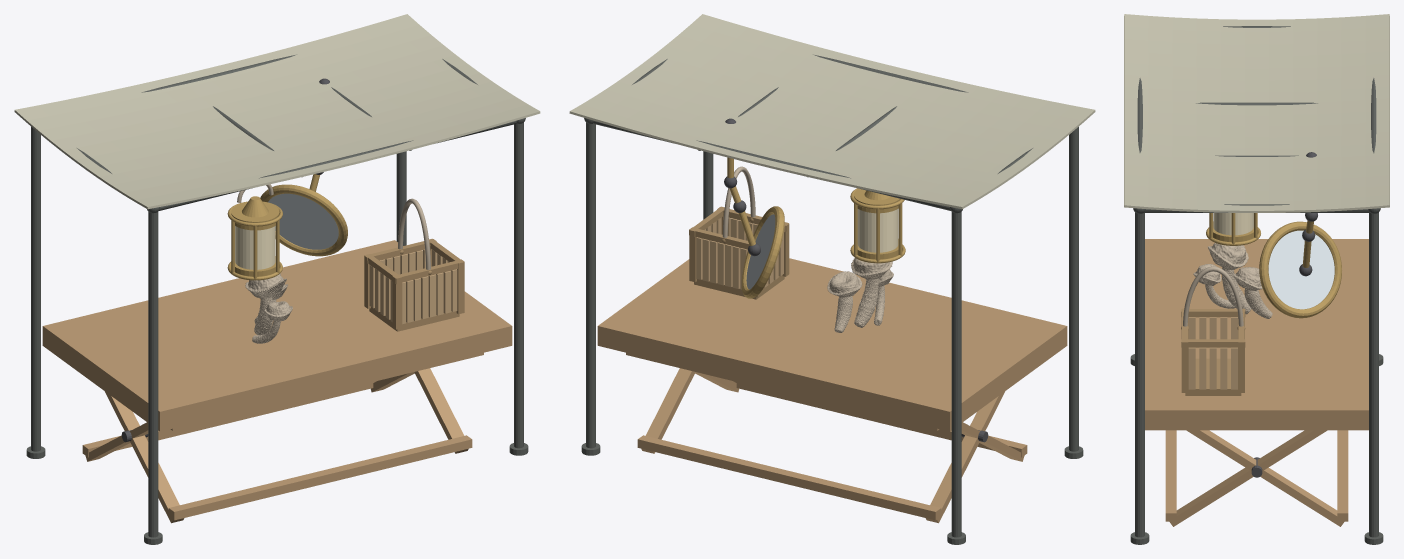
File: 3dcodebench_Mushroom_seed0_L6_Q3__kimi_k3.glb
The picture shows the model from 3 angles, left to right: view 1: azimuth 30°, elevation 25°; view 2: azimuth 150°, elevation 25°; view 3: azimuth 270°, elevation 25°; orthographic projection.
Parts seen in each view (by area): view 1: object; view 2: object; view 3: object.
Part boxes in pixels (x1,y1,x2,y2): object: (14, 14, 540, 544); object: (569, 14, 1095, 544); object: (1124, 14, 1389, 544).
Size of the model in its own units: 2.9 by 2.44 by 1.7.
